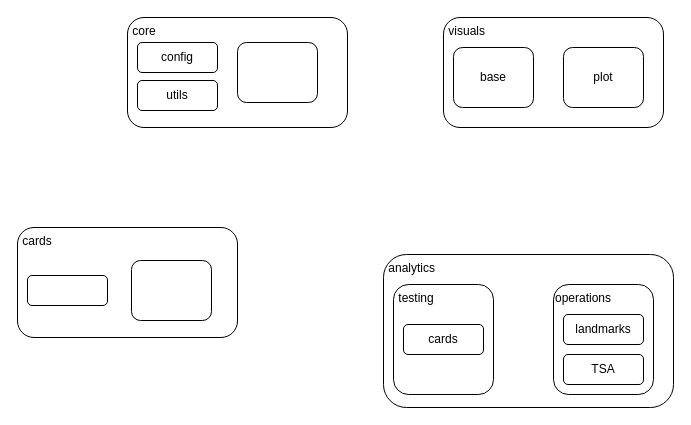
Some shapes in this 691 by 425 pixel diagram are drawn without their labels. The centre of each missing label's shape, as x and y in pixels:
-builder: pixel 67 290
cardset: pixel 171 290
data profile time: pixel 277 72
